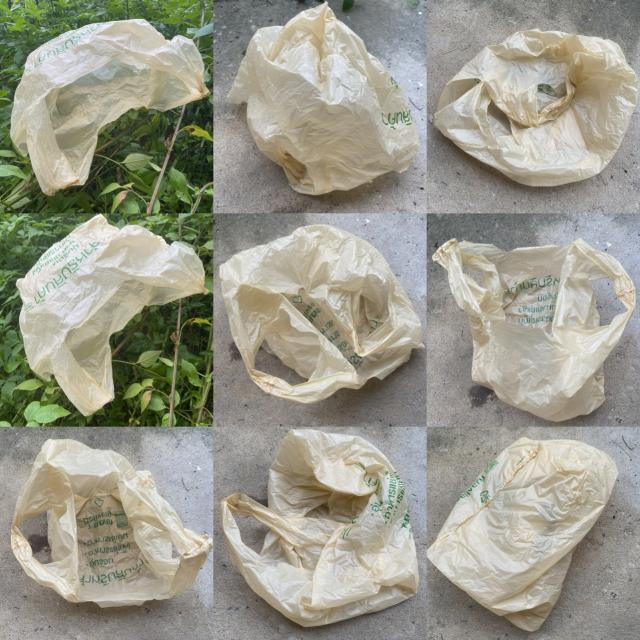Single-layer Plastic: (221, 430, 419, 626), (16, 215, 208, 415), (432, 239, 635, 421), (219, 225, 424, 404), (428, 438, 618, 631), (229, 2, 419, 194), (10, 19, 209, 195), (11, 440, 212, 608), (434, 29, 639, 186)
